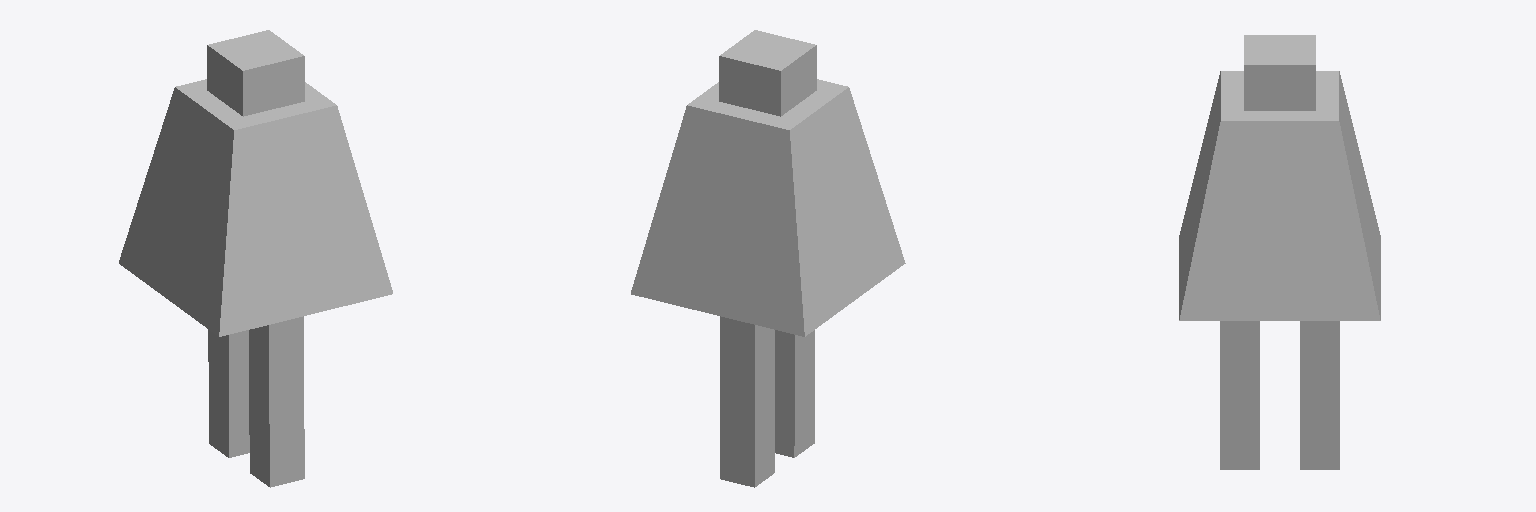
File: essai_000024.obj
3 renders of one model, left to right at view 1: azimuth 30°, elevation 25°; view 2: azimuth 150°, elevation 25°; view 3: azimuth 270°, elevation 25°, orthographic.
Parts seen in each view (by area): view 1: Cube; view 2: Cube; view 3: Cube.
Boxes of the visible parts, <box> form: Cube: <box>119,30,392,487</box>; Cube: <box>631,30,905,487</box>; Cube: <box>1179,35,1380,469</box>.
Size of the model in its own units: 2 by 4.5 by 2.